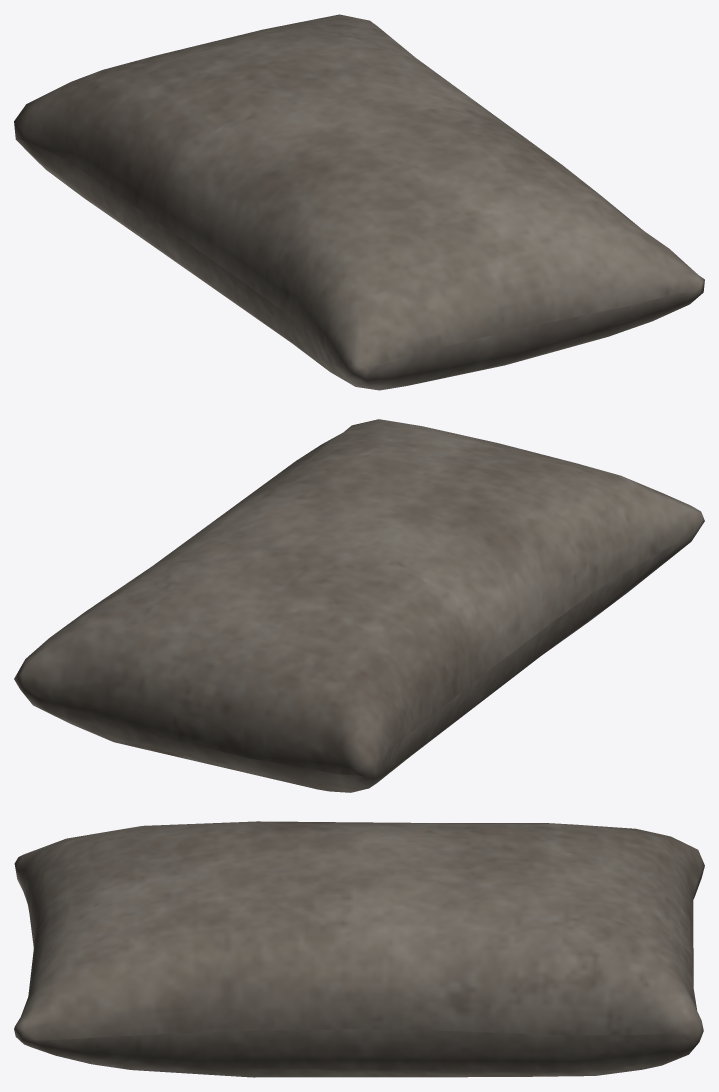
File: SM_Pillow.fbx
3 renders of one model, top to bottom at view 1: azimuth 30°, elevation 25°; view 2: azimuth 150°, elevation 25°; view 3: azimuth 270°, elevation 25°, orthographic.
Visible parts, largest first — view 1: SM_Pillow_LOD0; view 2: SM_Pillow_LOD0; view 3: SM_Pillow_LOD0.
Boxes of the visible parts, x1,y1,x2,y2 form: SM_Pillow_LOD0: (14, 14, 704, 390); SM_Pillow_LOD0: (14, 419, 704, 792); SM_Pillow_LOD0: (14, 821, 704, 1077).
Size of the model in its own units: 49.07 by 81.27 by 23.24.
